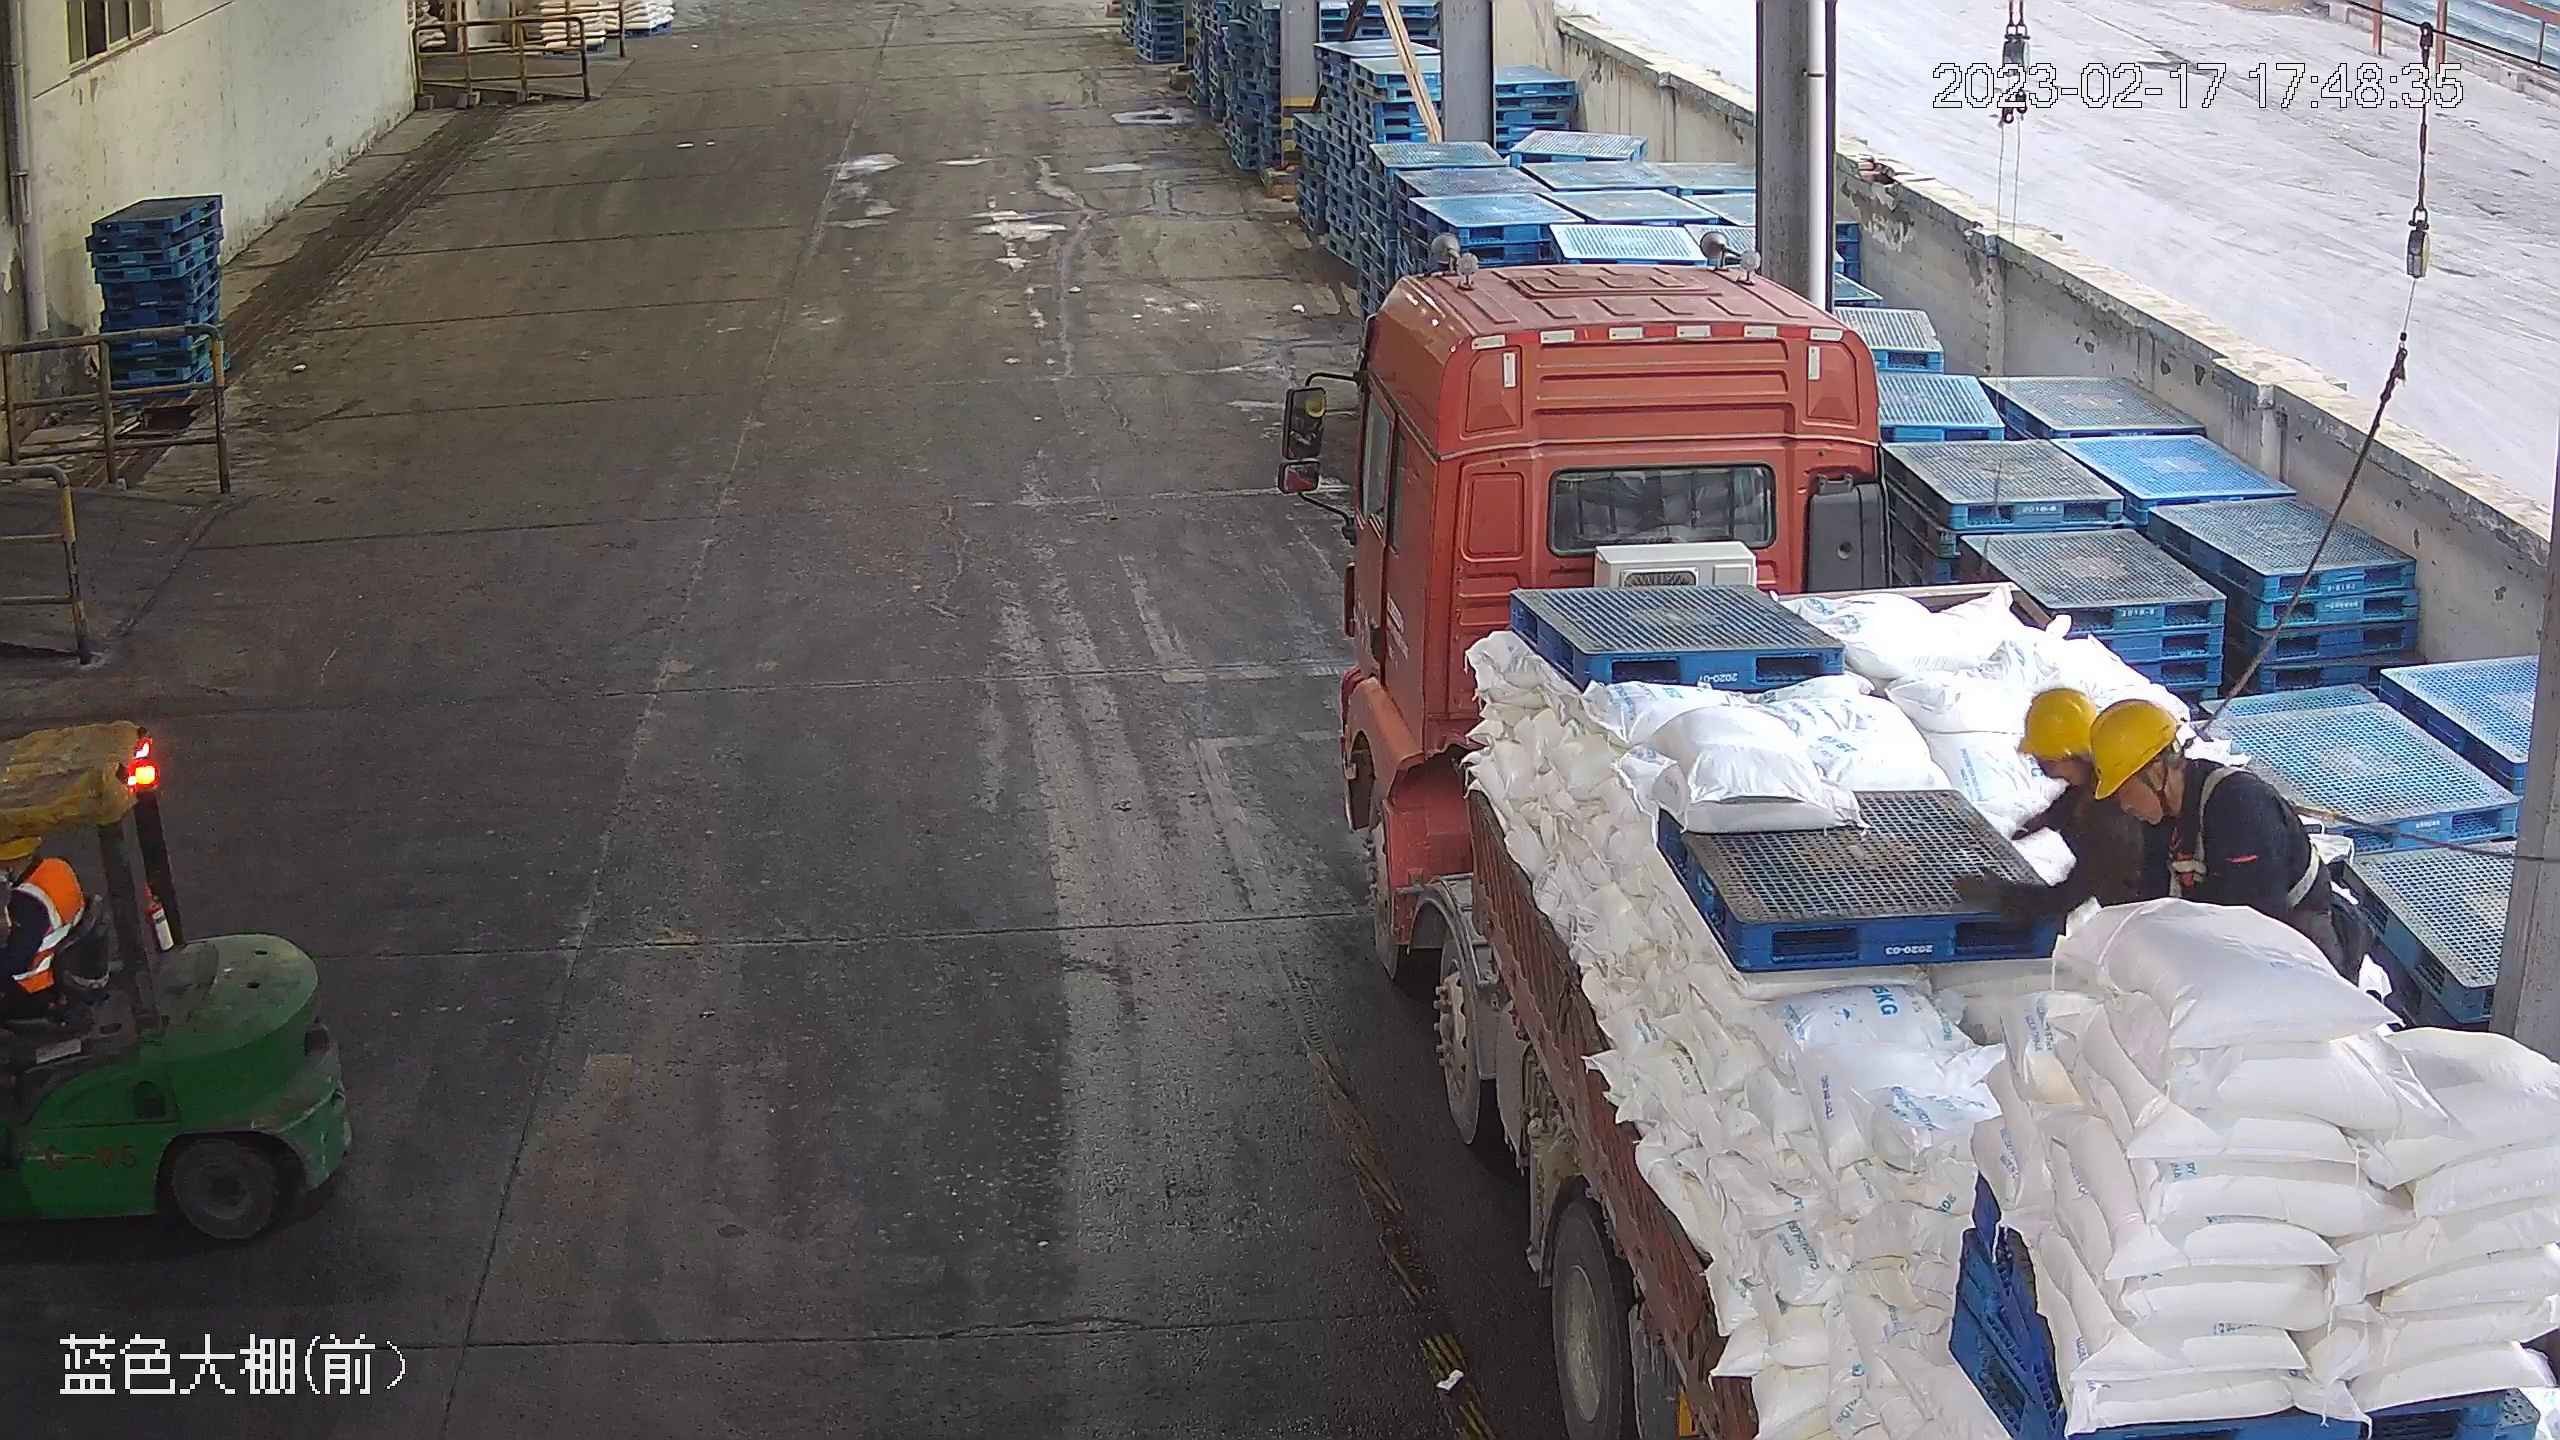belt: (2158, 757, 2343, 901)
head: (2084, 692, 2295, 851)
helmet: (2086, 694, 2184, 805), (2015, 683, 2098, 756)
people: (1, 832, 87, 1081)
truck: (1264, 232, 2560, 1440)
